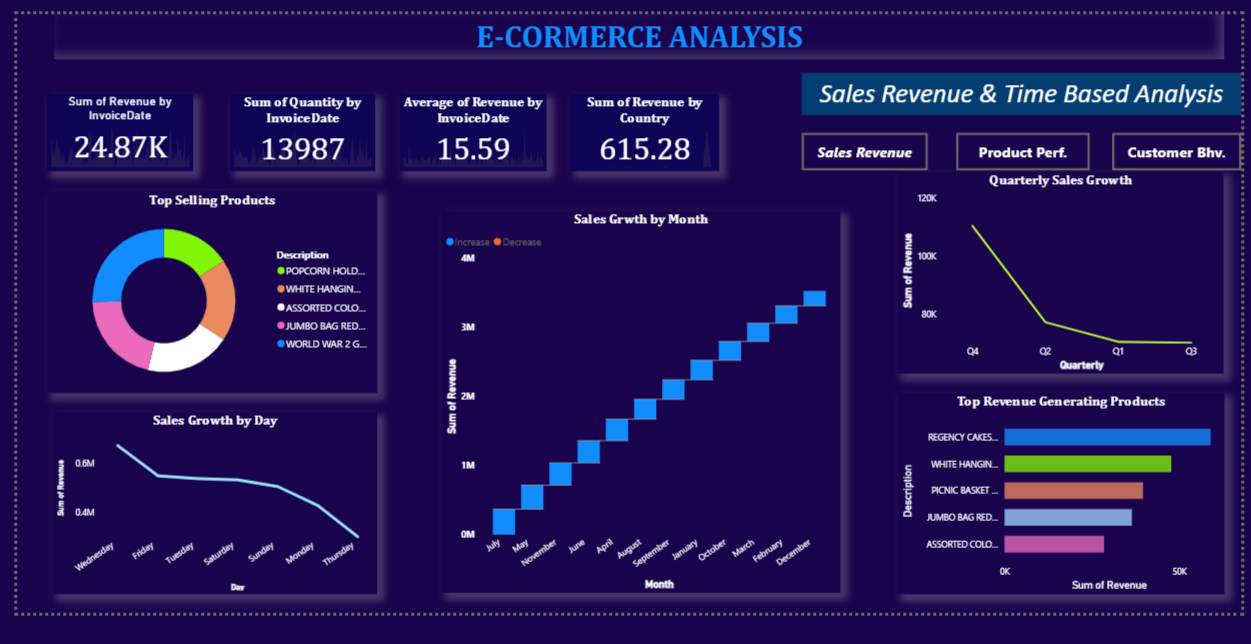

The page's visual inventory and layout, read from the dashboard file:
{"tool":"powerbi","page":{"name":"Sales Revenue & Time Based Analysis","canvas":[1701,830],"ordinal":1},"visuals":[{"type":"donutChart","title":"Top Selling Products","fields":{"Category":["E Analysis (1) (version 1).Description"],"Y":["Sum(E Analysis (1) (version 1).Quantity)"]},"box":[41.4,245.7,458.6,280],"z":0},{"type":"waterfallChart","title":"Sales Grwth by Month","fields":{"Category":["E Analysis (1) (version 1).Month"],"Y":["Sum(E Analysis (1) (version 1).Revenue)"]},"box":[588.6,272.9,554.3,530],"z":1000},{"type":"clusteredBarChart","title":"Top Revenue Generating Products","fields":{"Category":["E Analysis (1) (version 1).Description"],"Y":["Sum(E Analysis (1) (version 1).Revenue)"]},"box":[1222.9,525.7,454.3,280],"z":2000},{"type":"lineChart","title":"Sales Growth by Day","fields":{"Y":["Sum(E Analysis (1) (version 1).Revenue)"],"Category":["E Analysis (1) (version 1).Day"]},"box":[50,552.9,450,252.9],"z":3000},{"type":"lineChart","title":"Quarterly Sales Growth","fields":{"Y":["Sum(E Analysis (1) (version 1).Revenue)"],"Category":["E Analysis (1) (version 1).Quarterly"]},"box":[1222.9,218.6,452.9,280],"z":4000},{"type":"textbox","box":[52.9,0,1624.3,62.9],"z":5000},{"type":"kpi","fields":{"Indicator":["Sum(E Analysis (1) (version 1).Revenue)"],"TrendLine":["E Analysis (1) (version 1).InvoiceDate"]},"box":[41.4,111.4,202.9,107.1],"z":7000},{"type":"kpi","fields":{"Indicator":["Sum(E Analysis (1) (version 1).Quantity)"],"TrendLine":["E Analysis (1) (version 1).InvoiceDate"]},"box":[295.7,111.4,201.4,107.1],"z":8000},{"type":"kpi","fields":{"Indicator":["Avg(E Analysis (1) (version 1).Revenue)"],"TrendLine":["E Analysis (1) (version 1).InvoiceDate"]},"box":[531.4,111.4,204.3,107.1],"z":9000},{"type":"kpi","fields":{"TrendLine":["E Analysis (1) (version 1).Country"],"Indicator":["Sum(E Analysis (1) (version 1).Revenue)"]},"box":[768.6,111.4,205.7,107.1],"z":10000},{"type":"actionButton","box":[1089.6,164.6,175,52.1],"z":10001},{"type":"textbox","box":[1089.6,81.2,610.4,58.3],"z":10002},{"type":"actionButton","box":[1304.2,164.6,185.4,52.1],"z":10003},{"type":"actionButton","box":[1520.8,164.6,179.2,52.1],"z":10004}]}

Visuals, with their boxes on the page's 1701x830 design canvas (x1, y1, x2, y2). These are canvas units, not pixel positions in the 1251x644 screenshot, which may show the page scaled, cropped or inside an application window:
"Top Selling Products" donutChart: left=41, top=246, right=500, bottom=526
"Sales Grwth by Month" waterfallChart: left=589, top=273, right=1143, bottom=803
"Top Revenue Generating Products" clusteredBarChart: left=1223, top=526, right=1677, bottom=806
"Sales Growth by Day" lineChart: left=50, top=553, right=500, bottom=806
"Quarterly Sales Growth" lineChart: left=1223, top=219, right=1676, bottom=499
textbox: left=53, top=0, right=1677, bottom=63
kpi - Sum(E Analysis (1) (version 1).Revenue) x E Analysis (1) (version 1).InvoiceDate: left=41, top=111, right=244, bottom=218
kpi - Sum(E Analysis (1) (version 1).Quantity) x E Analysis (1) (version 1).InvoiceDate: left=296, top=111, right=497, bottom=218
kpi - Avg(E Analysis (1) (version 1).Revenue) x E Analysis (1) (version 1).InvoiceDate: left=531, top=111, right=736, bottom=218
kpi - E Analysis (1) (version 1).Country x Sum(E Analysis (1) (version 1).Revenue): left=769, top=111, right=974, bottom=218
actionButton: left=1090, top=165, right=1265, bottom=217
textbox: left=1090, top=81, right=1700, bottom=140
actionButton: left=1304, top=165, right=1490, bottom=217
actionButton: left=1521, top=165, right=1700, bottom=217
